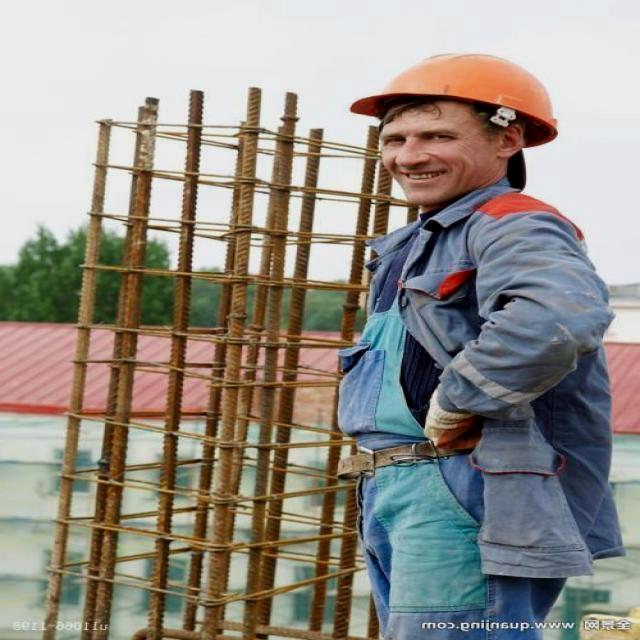face_nomask: (376, 119, 472, 199)
head_helmet: (345, 49, 561, 138)
person: (329, 41, 610, 640)
